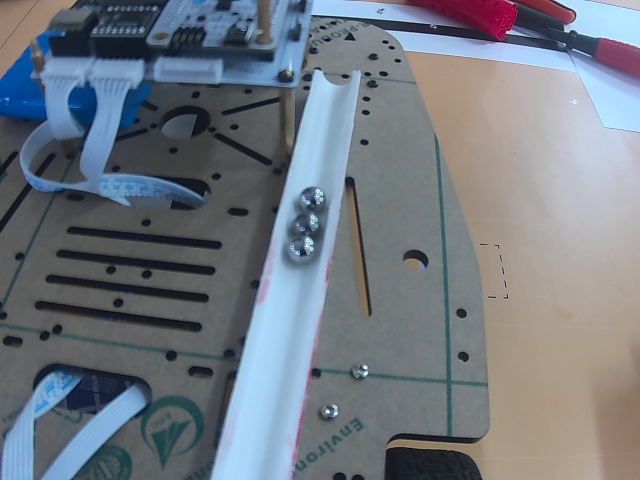steelball: (288, 236, 315, 263), (300, 188, 325, 212), (294, 213, 319, 235)
